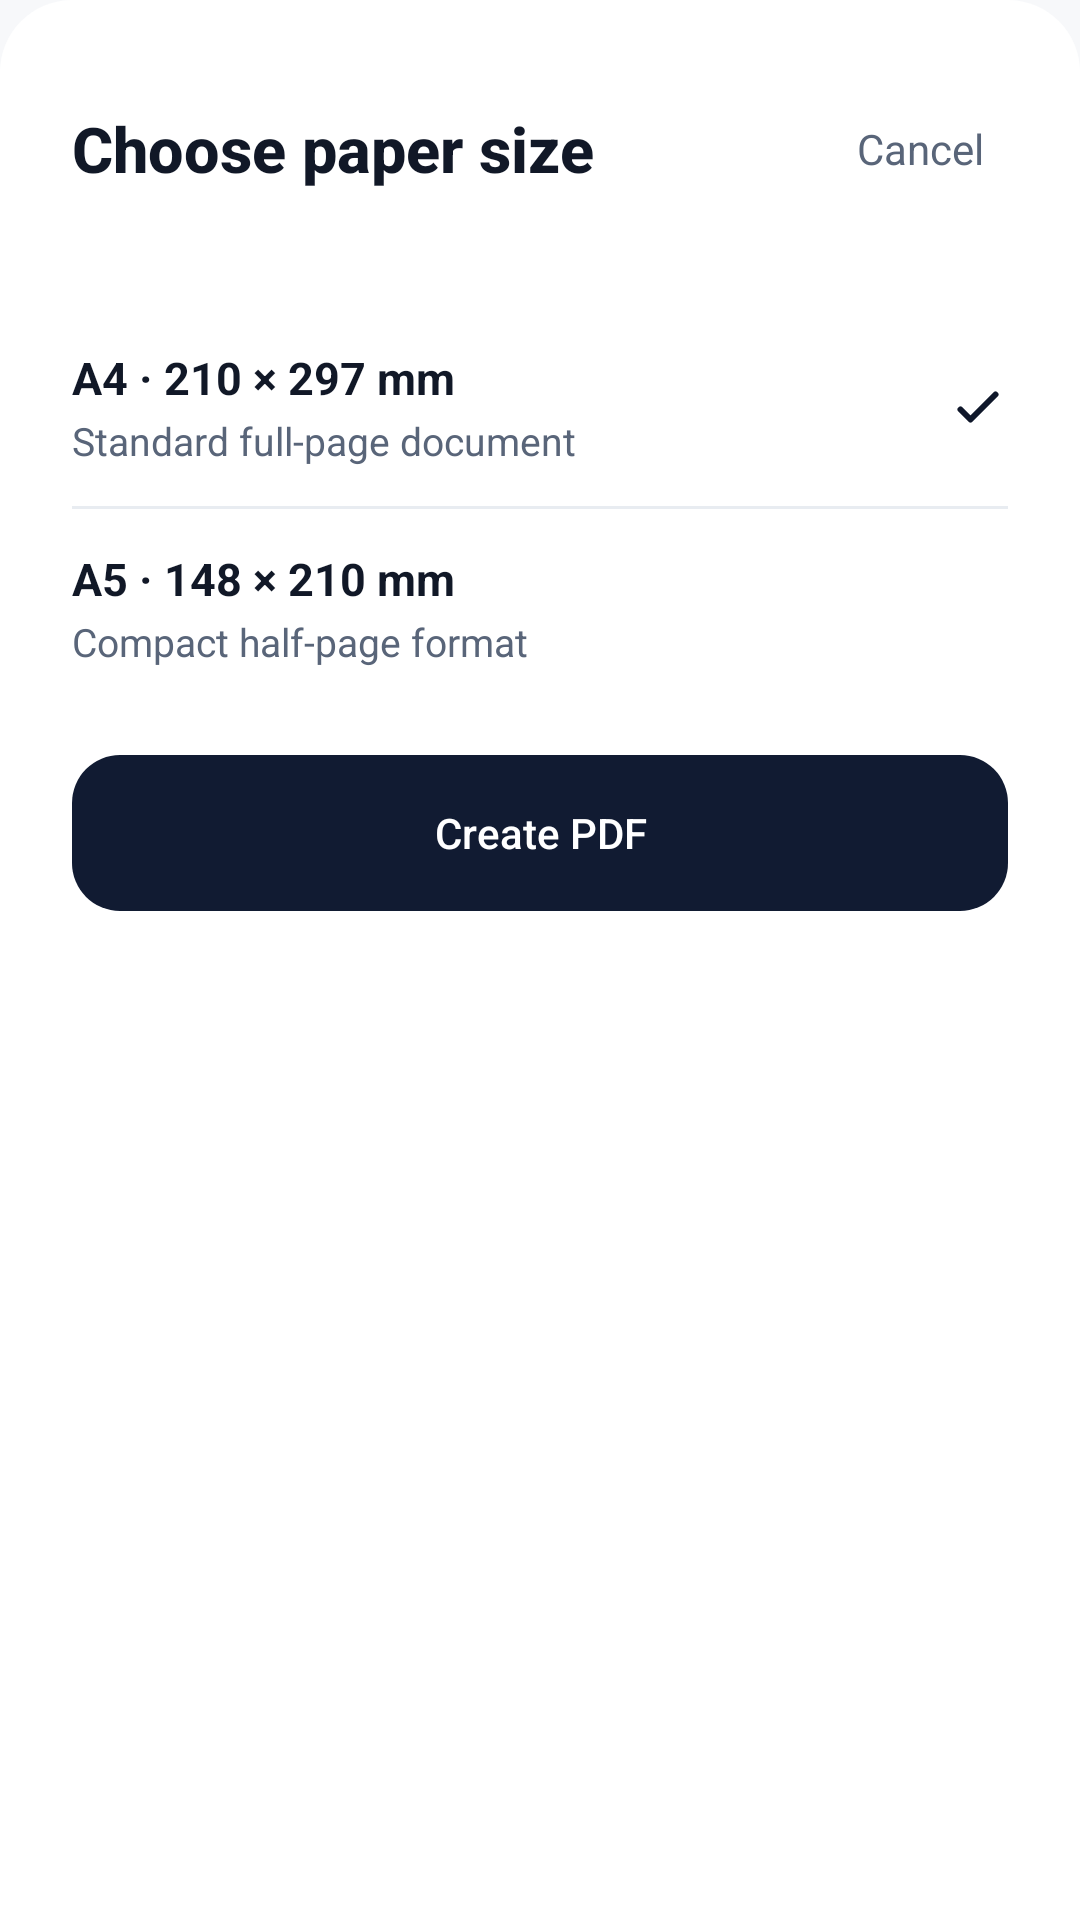

Named icons in this screenshot (1080 × 1920) and their centers, [x,y]:
Selected: [978,407]
